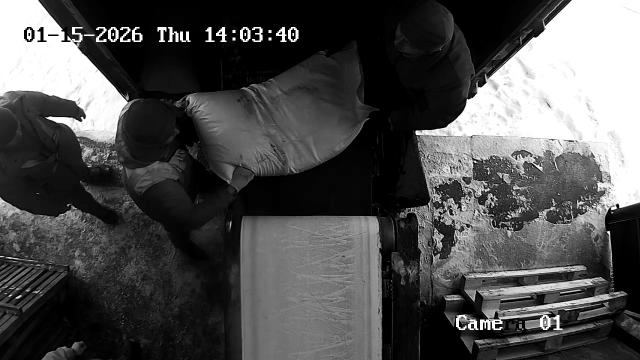bag: (187, 41, 378, 183)
